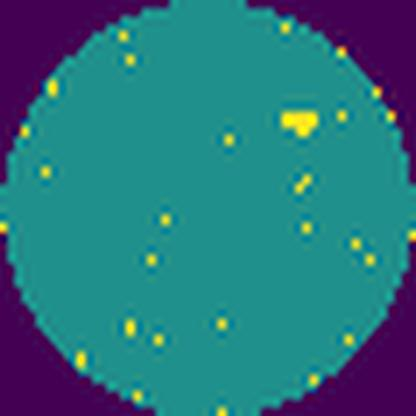Loc: (278, 110, 322, 138)
